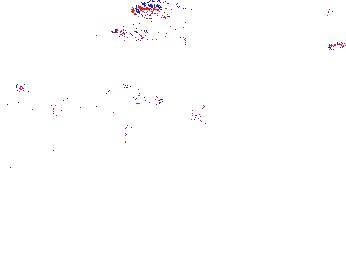glassfish: (1, 93, 71, 138), (65, 96, 136, 133)
red belly glassfish: (131, 1, 193, 20), (308, 7, 334, 20), (325, 37, 346, 52)
redtail glassfish: (112, 21, 186, 47), (92, 80, 164, 106), (9, 83, 61, 113), (187, 105, 221, 127)
